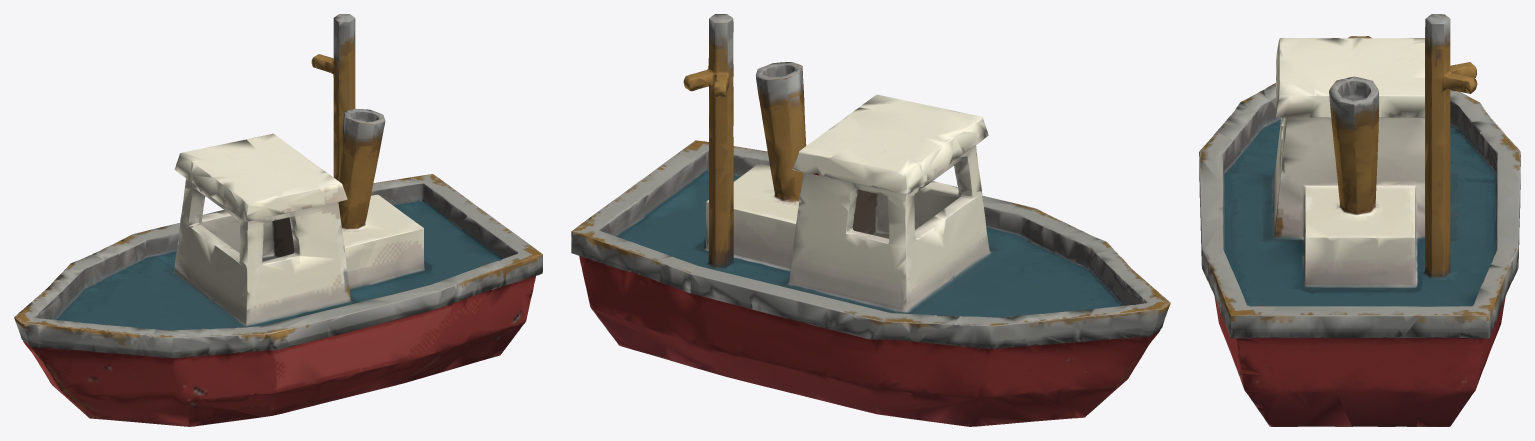
File: barquito_mano.glb
The picture shows the model from 3 angles, left to right: view 1: azimuth 30°, elevation 25°; view 2: azimuth 150°, elevation 25°; view 3: azimuth 270°, elevation 25°; orthographic projection. The views are drawn at different scales.
Bounding box in the file's own units: 1.9 × 1.18 × 0.9572.
Materials: 1 (1 with a texture image).
